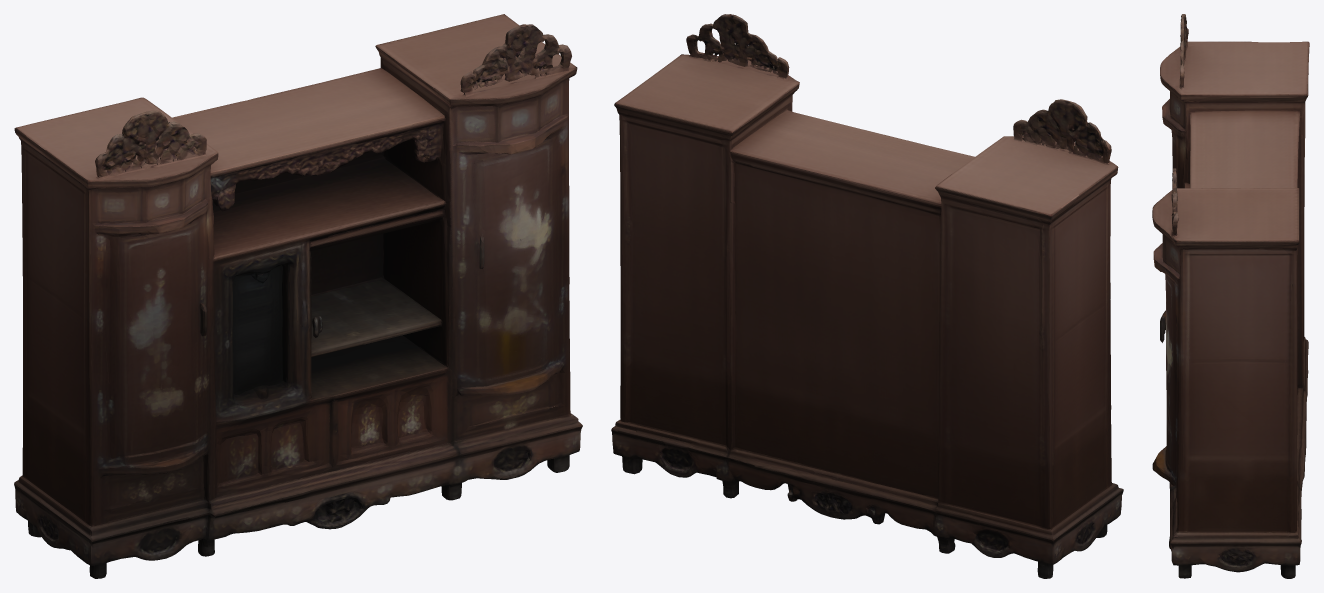
File: CaiTuKinh.glb
3 renders of one model, left to right at view 1: azimuth 30°, elevation 25°; view 2: azimuth 150°, elevation 25°; view 3: azimuth 270°, elevation 25°, orthographic. The views are drawn at different scales.
Parts seen in each view (by area): view 1: world; view 2: world; view 3: world.
Boxes of the visible parts, bbox=[...] form: world: bbox=[14, 14, 582, 578]; world: bbox=[611, 14, 1123, 578]; world: bbox=[1152, 14, 1309, 578].
Bounding box in the file's own units: 0.99 × 0.8908 × 0.327.
1 material, 1 textured.
